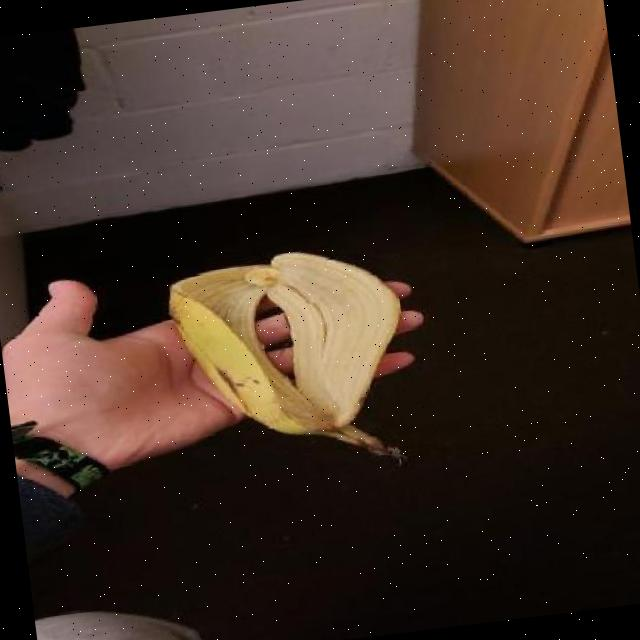banana-peel: (160, 234, 422, 488)
